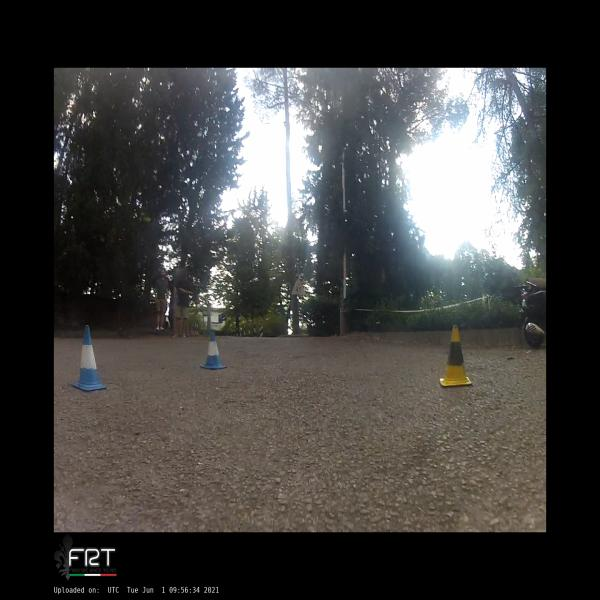blue_cone: (70, 325, 106, 392), (200, 329, 228, 370)
yellow_cone: (438, 324, 472, 386)
